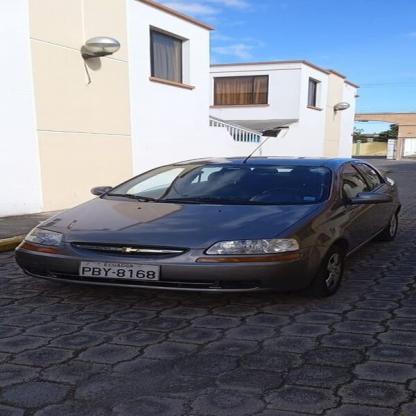Placa: (77, 256, 165, 294)
